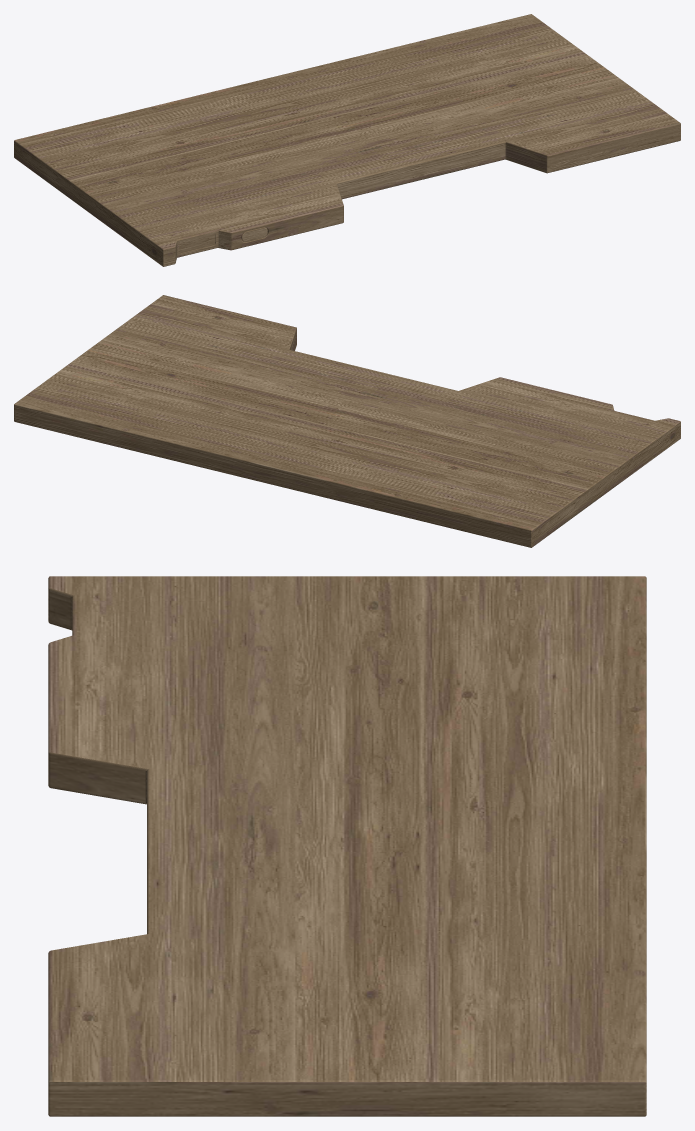
Rendered from deskDefoult1.gltf.
The picture shows the model from 3 angles, top to bottom: view 1: azimuth 30°, elevation 25°; view 2: azimuth 150°, elevation 25°; view 3: azimuth 270°, elevation 25°; orthographic projection. The views are drawn at different scales.
Visible parts, largest first — view 1: deskDefoult1; view 2: deskDefoult1; view 3: deskDefoult1.
Boxes of the visible parts, box(x1,y1,x2,y2) form: deskDefoult1: box(14, 14, 680, 266); deskDefoult1: box(14, 295, 680, 547); deskDefoult1: box(48, 576, 646, 1116).
Bounding box in the file's own units: 6 × 0.2 × 3.
Materials: 1 (1 with a texture image).
